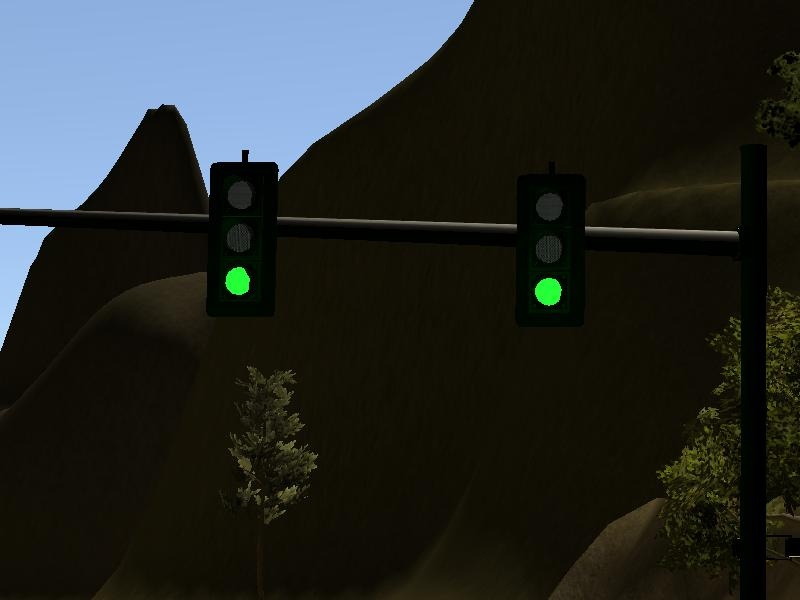green: (500, 156, 595, 334), (189, 141, 281, 321)
